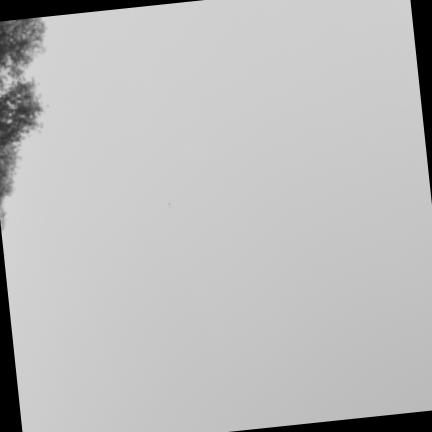Shahed: (168, 203, 170, 209)
